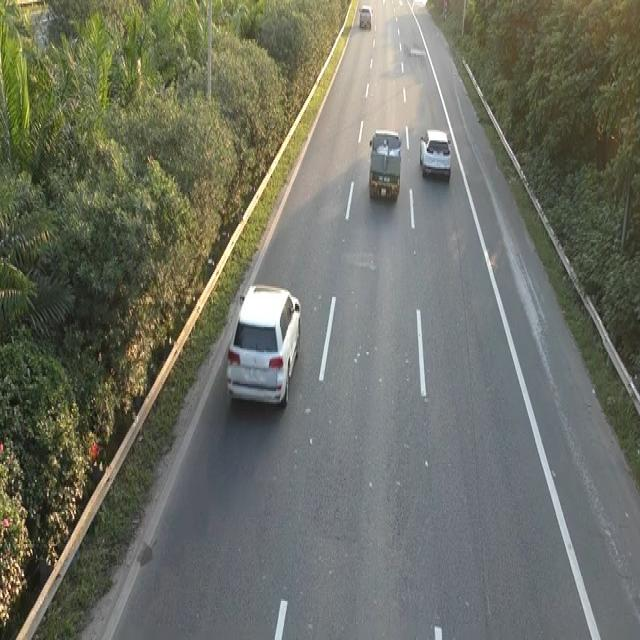car: (223, 279, 304, 416), (418, 125, 452, 182)
minivan: (367, 126, 402, 203)
